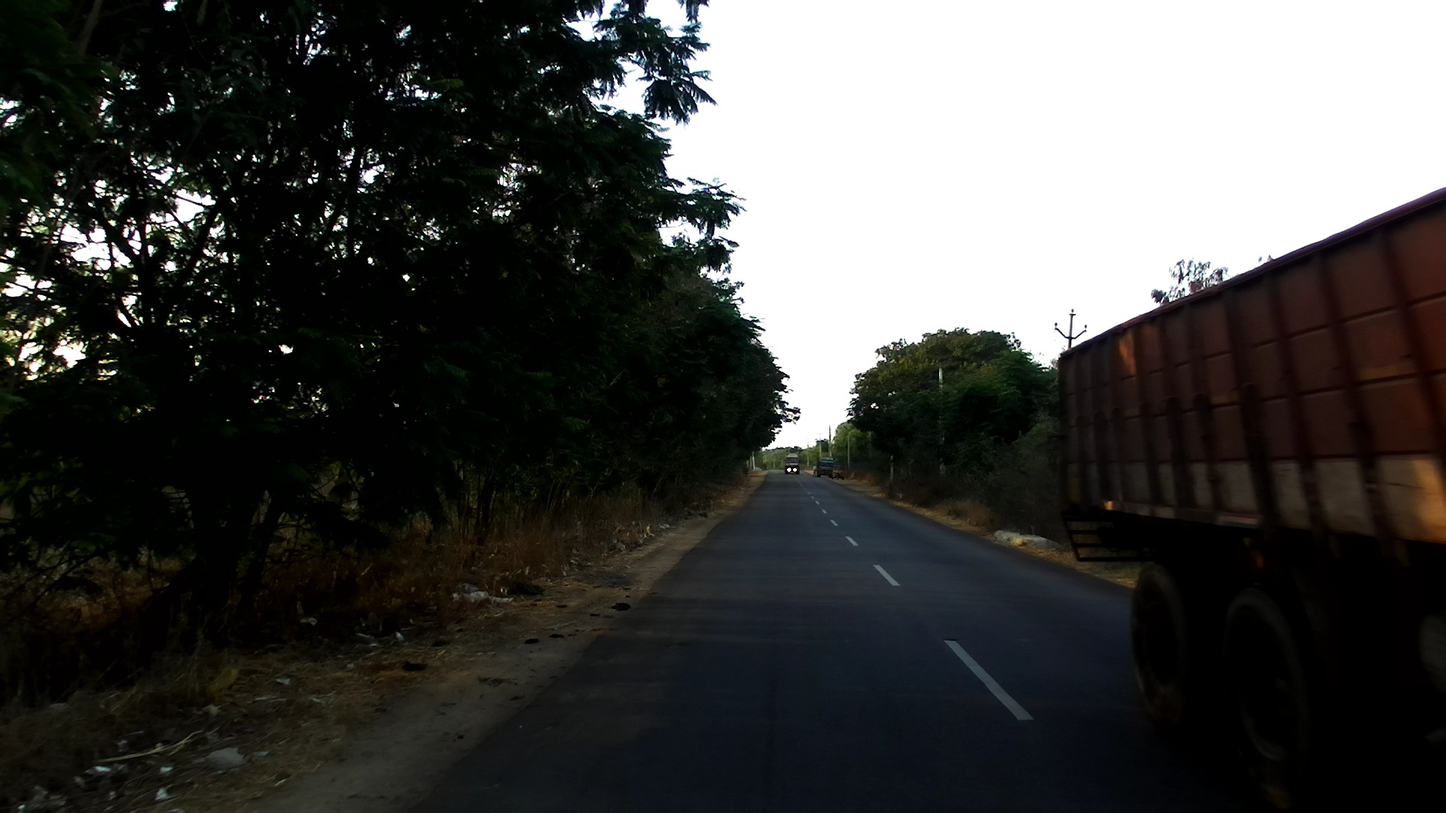autorickshaw: (832, 460, 847, 481)
person: (809, 464, 820, 477)
truck: (1056, 187, 1444, 769), (813, 455, 832, 479), (782, 452, 799, 473)
